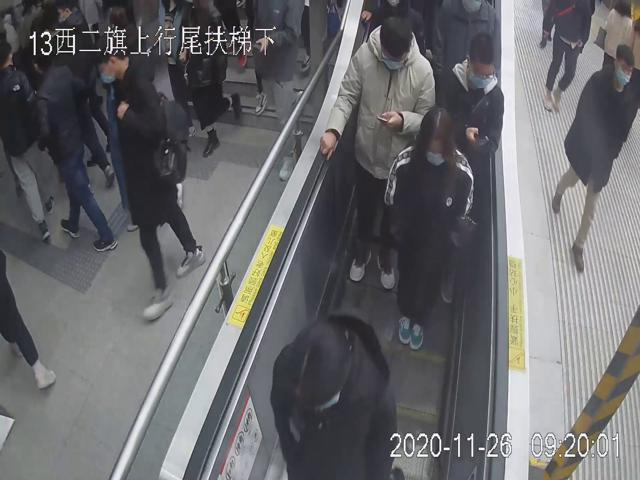person: (319, 13, 436, 289), (96, 30, 205, 321), (381, 106, 471, 349), (269, 312, 398, 480), (551, 41, 637, 272), (434, 30, 505, 304)
